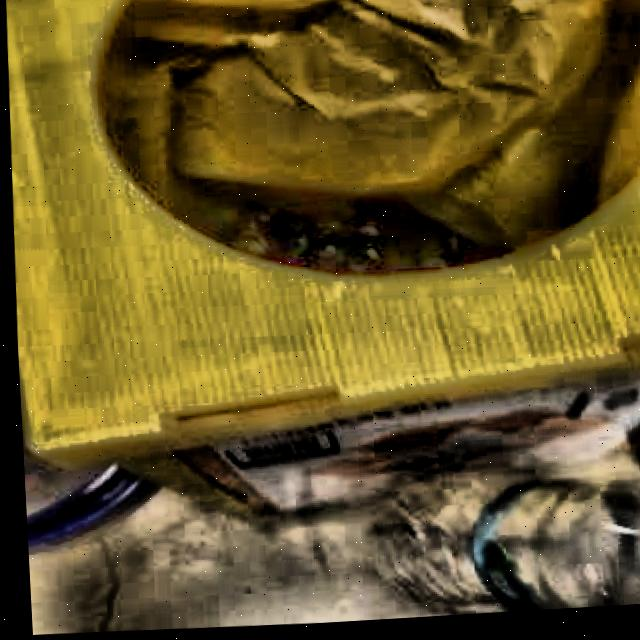plastic: (363, 484, 640, 618)
